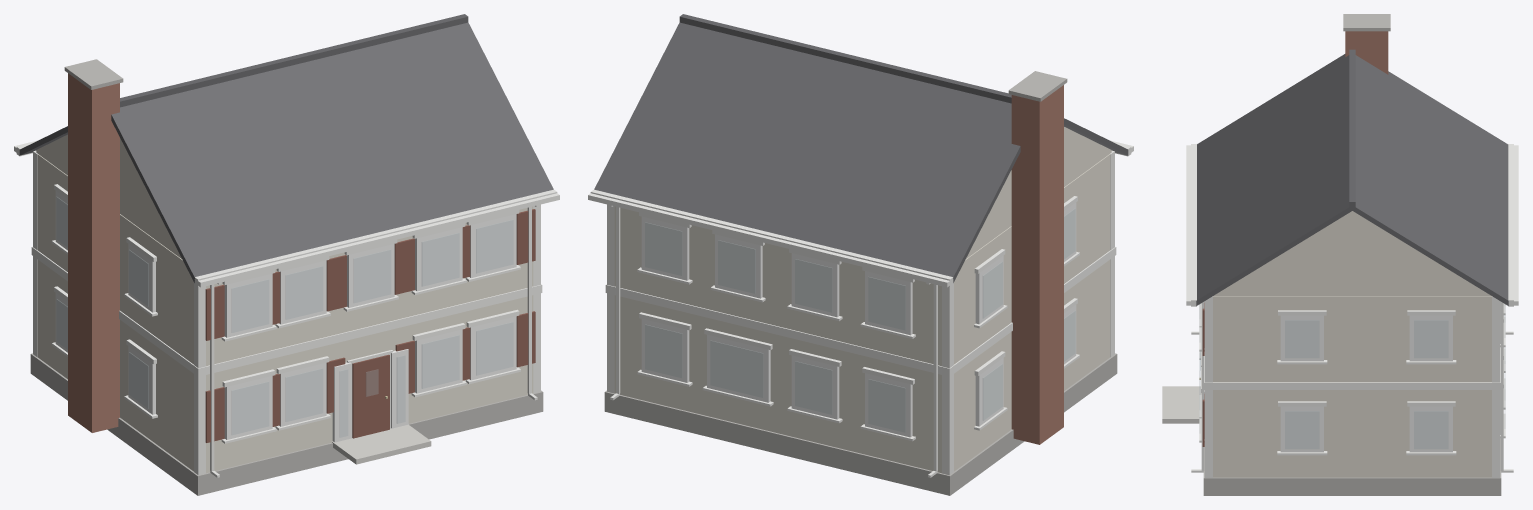
File: house-colonial.glb
The picture shows the model from 3 angles, left to right: view 1: azimuth 30°, elevation 25°; view 2: azimuth 150°, elevation 25°; view 3: azimuth 270°, elevation 25°; orthographic projection. The views are drawn at different scales.
Parts seen in each view (by area): view 1: Roof_Slope_A, Body_Front, Chimney, Body_Left, Foundation, Trim_BeltCourse, Roof_Ridge, Roof_GableFill_B, Door_Front_Slab, Gutter_F_Gutter, Window_Front_05_Frame, Window_Front_10_Frame (+40 smaller); view 2: Roof_Slope_B, Body_Back, Chimney, Body_Left, Foundation, Trim_BeltCourse, Window_Back_03_Frame, Roof_Ridge, Roof_GableFill_B, Gutter_B_Gutter, Window_Back_02_Frame, Window_Back_04_Frame (+26 smaller); view 3: Body_Right, Roof_Slope_B, Roof_Slope_A, Roof_GableFill_A, Foundation, Trim_BeltCourse, Window_Right_01_Frame, Window_Right_02_Frame, Window_Right_03_Frame, Window_Right_04_Frame, Stoop, Chimney (+14 smaller).
Boxes of the visible parts, box(x1,y1,x2,y2) form: Roof_Slope_A: box(111, 22, 553, 282); Body_Front: box(206, 206, 533, 473); Chimney: box(68, 73, 119, 432); Body_Left: box(37, 154, 193, 471); Foundation: box(30, 353, 543, 495); Trim_BeltCourse: box(31, 247, 542, 376); Roof_Ridge: box(120, 14, 468, 107); Roof_GableFill_B: box(36, 134, 181, 258); Door_Front_Slab: box(352, 354, 389, 438); Gutter_F_Gutter: box(198, 193, 559, 287); Window_Front_05_Frame: box(224, 376, 272, 439); Window_Front_10_Frame: box(224, 273, 272, 337); Roof_Slope_B: box(594, 22, 1020, 282); Body_Back: box(614, 206, 941, 473); Chimney: box(1011, 85, 1063, 444); Body_Left: box(954, 154, 1110, 471); Foundation: box(604, 353, 1117, 495); Trim_BeltCourse: box(605, 247, 1116, 376); Window_Back_03_Frame: box(707, 335, 770, 402); Roof_Ridge: box(679, 14, 1011, 103); Roof_GableFill_B: box(966, 127, 1111, 258); Gutter_B_Gutter: box(588, 193, 949, 287); Window_Back_02_Frame: box(791, 355, 839, 419); Window_Back_04_Frame: box(641, 319, 689, 382); Body_Right: box(1213, 296, 1491, 477); Roof_Slope_B: box(1351, 55, 1508, 305); Roof_Slope_A: box(1196, 54, 1353, 305); Roof_GableFill_A: box(1212, 211, 1492, 296); Foundation: box(1203, 438, 1501, 495); Trim_BeltCourse: box(1204, 347, 1500, 389); Window_Right_01_Frame: box(1409, 406, 1452, 452); Window_Right_02_Frame: box(1280, 406, 1323, 452); Window_Right_03_Frame: box(1409, 315, 1452, 361); Window_Right_04_Frame: box(1280, 315, 1323, 361); Stoop: box(1162, 386, 1201, 423); Chimney: box(1345, 31, 1388, 74).
Size of the model in its own units: 10.91 by 9.83 by 9.93.
